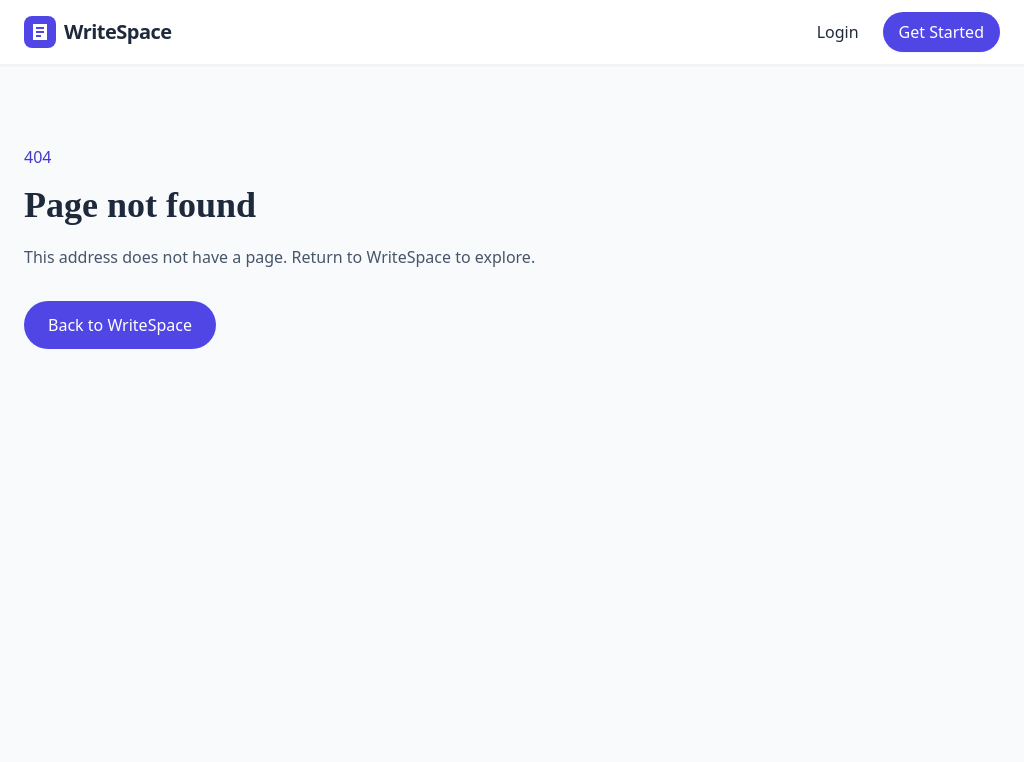
Test case: renders a real unmatched view and working back link for /unknown
Expected: the heading "Page not found" is shown, [24,185,256,225]
Click the link "Back to WriteSpace": [120, 325] box [24,301,216,349]
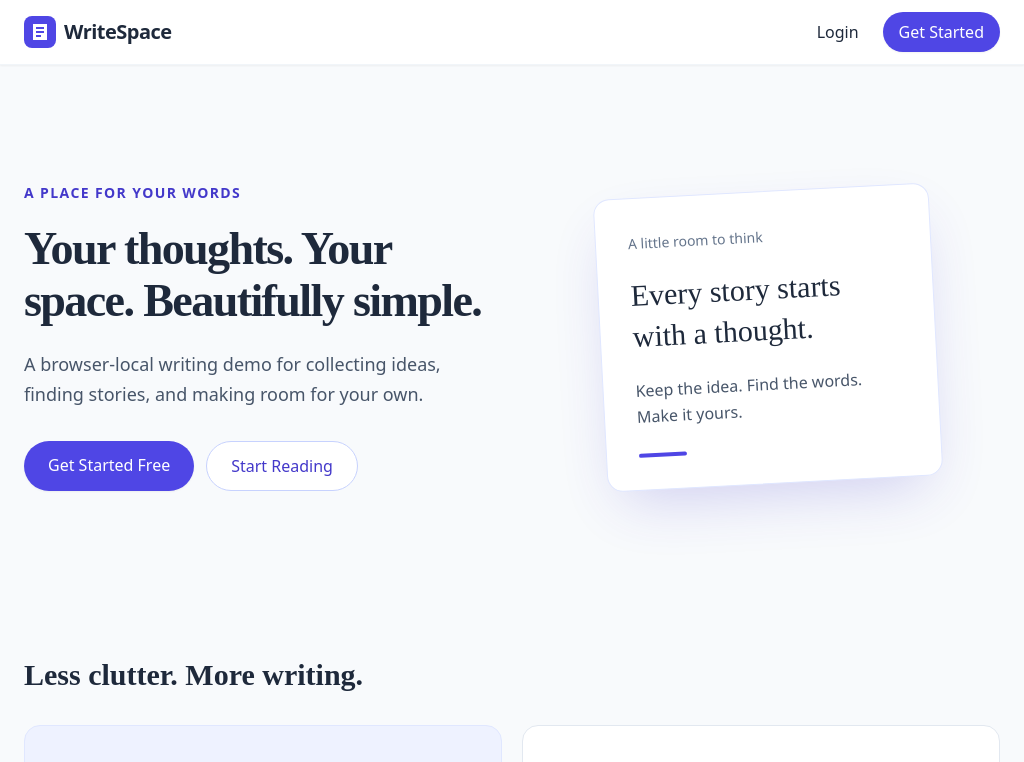
Expected: the heading "Your thoughts. Your space. Beautifully simple." is shown, [24,223,488,326]
